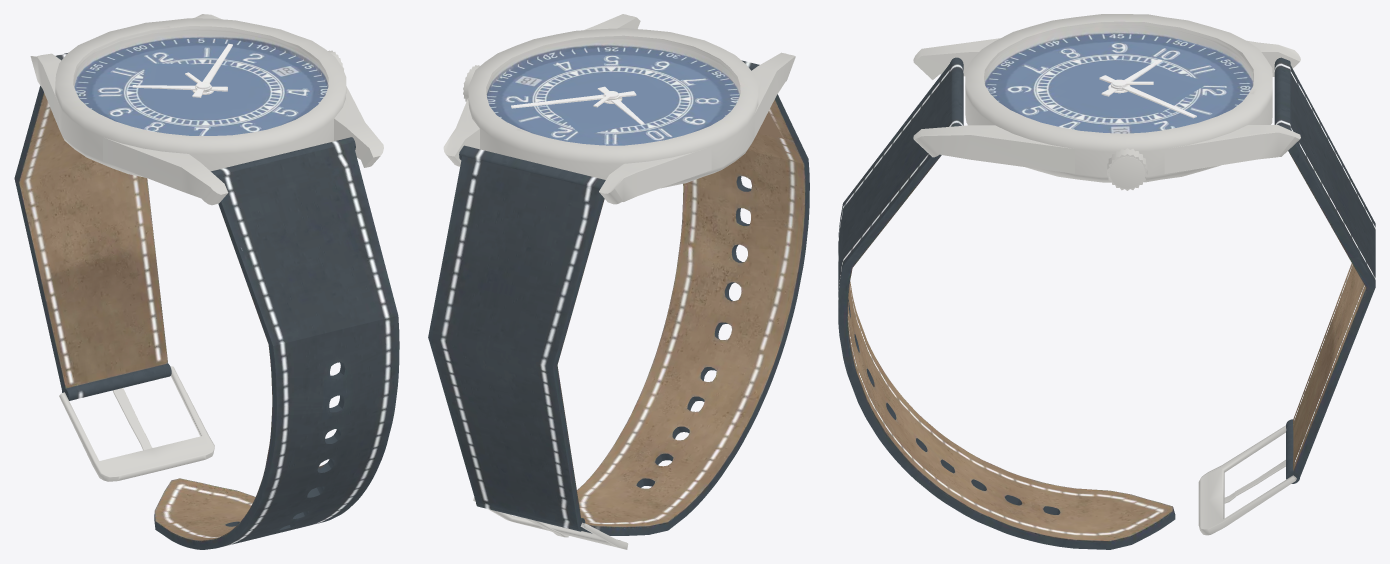
File: watch.glb
3 views of the same model, side by side, from view 1: azimuth 30°, elevation 25°; view 2: azimuth 150°, elevation 25°; view 3: azimuth 270°, elevation 25° (orthographic). The views are drawn at different scales.
Visible parts, largest first — view 1: defaultMaterial.004, defaultMaterial.010, defaultMaterial.001, defaultMaterial.009, defaultMaterial.002, defaultMaterial.003; view 2: defaultMaterial.004, defaultMaterial.001, defaultMaterial.010, defaultMaterial.009, defaultMaterial.002, defaultMaterial.003; view 3: defaultMaterial.010, defaultMaterial.004, defaultMaterial.009, defaultMaterial.001, defaultMaterial.002, defaultMaterial.008, defaultMaterial.003.
Part boxes in pixels (bbox=[...]): defaultMaterial.004: bbox=[154, 137, 399, 549]; defaultMaterial.010: bbox=[30, 14, 383, 205]; defaultMaterial.001: bbox=[14, 53, 171, 400]; defaultMaterial.009: bbox=[74, 27, 327, 135]; defaultMaterial.002: bbox=[59, 366, 214, 481]; defaultMaterial.003: bbox=[132, 43, 232, 97]; defaultMaterial.004: bbox=[577, 60, 809, 535]; defaultMaterial.001: bbox=[428, 145, 605, 531]; defaultMaterial.010: bbox=[443, 14, 795, 204]; defaultMaterial.009: bbox=[487, 36, 739, 144]; defaultMaterial.002: bbox=[473, 497, 628, 549]; defaultMaterial.003: bbox=[511, 86, 644, 124]; defaultMaterial.010: bbox=[913, 14, 1300, 182]; defaultMaterial.004: bbox=[838, 57, 1175, 549]; defaultMaterial.009: bbox=[985, 22, 1252, 132]; defaultMaterial.001: bbox=[1274, 57, 1375, 483]; defaultMaterial.002: bbox=[1198, 425, 1296, 535]; defaultMaterial.008: bbox=[1107, 148, 1147, 190]; defaultMaterial.003: bbox=[1099, 59, 1196, 118].
Size of the model in its own units: 0.0401 by 0.0627 by 0.0676.
3 materials, 3 textured.
